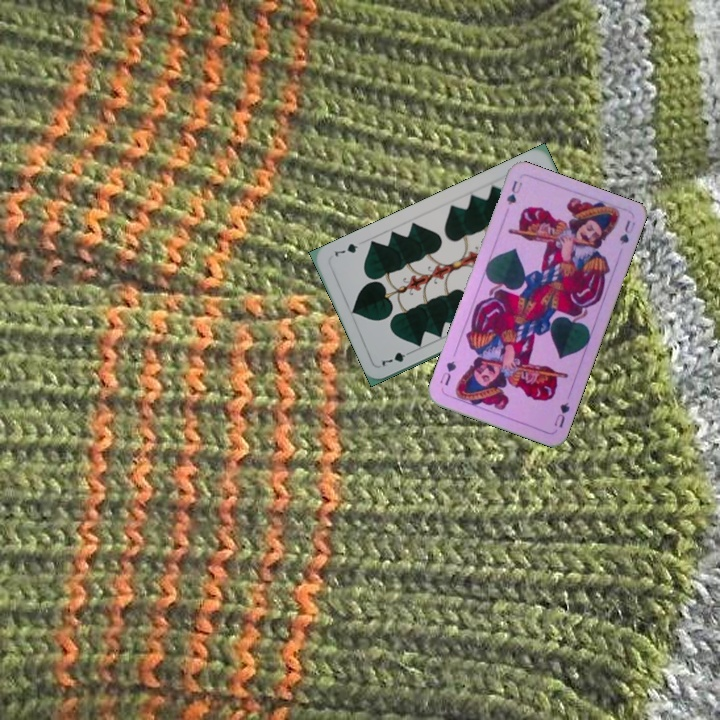G7: (377, 346, 416, 369)
GU: (550, 398, 573, 430), (502, 176, 525, 208)
